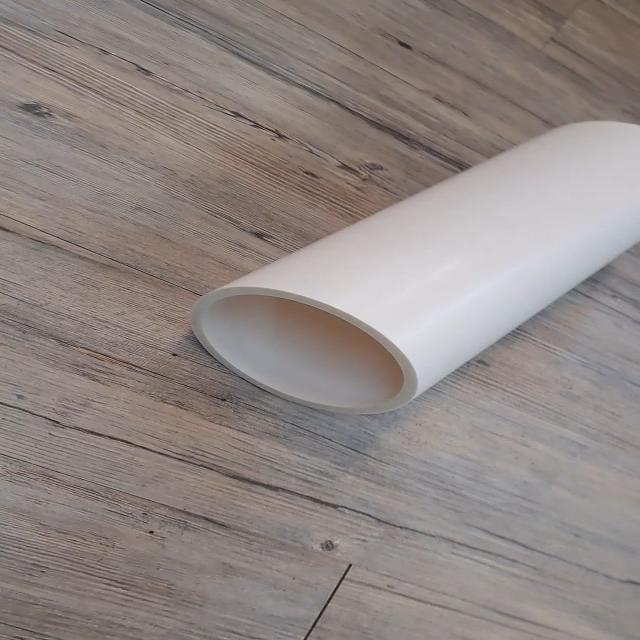CORAL: (181, 107, 640, 425)
